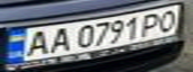0: (72, 22, 96, 50)
1: (121, 15, 145, 39)
7: (93, 19, 112, 46)
9: (109, 17, 127, 43)
A: (18, 28, 54, 57), (45, 25, 75, 54)
O: (154, 7, 181, 33)
P: (136, 10, 166, 36)
